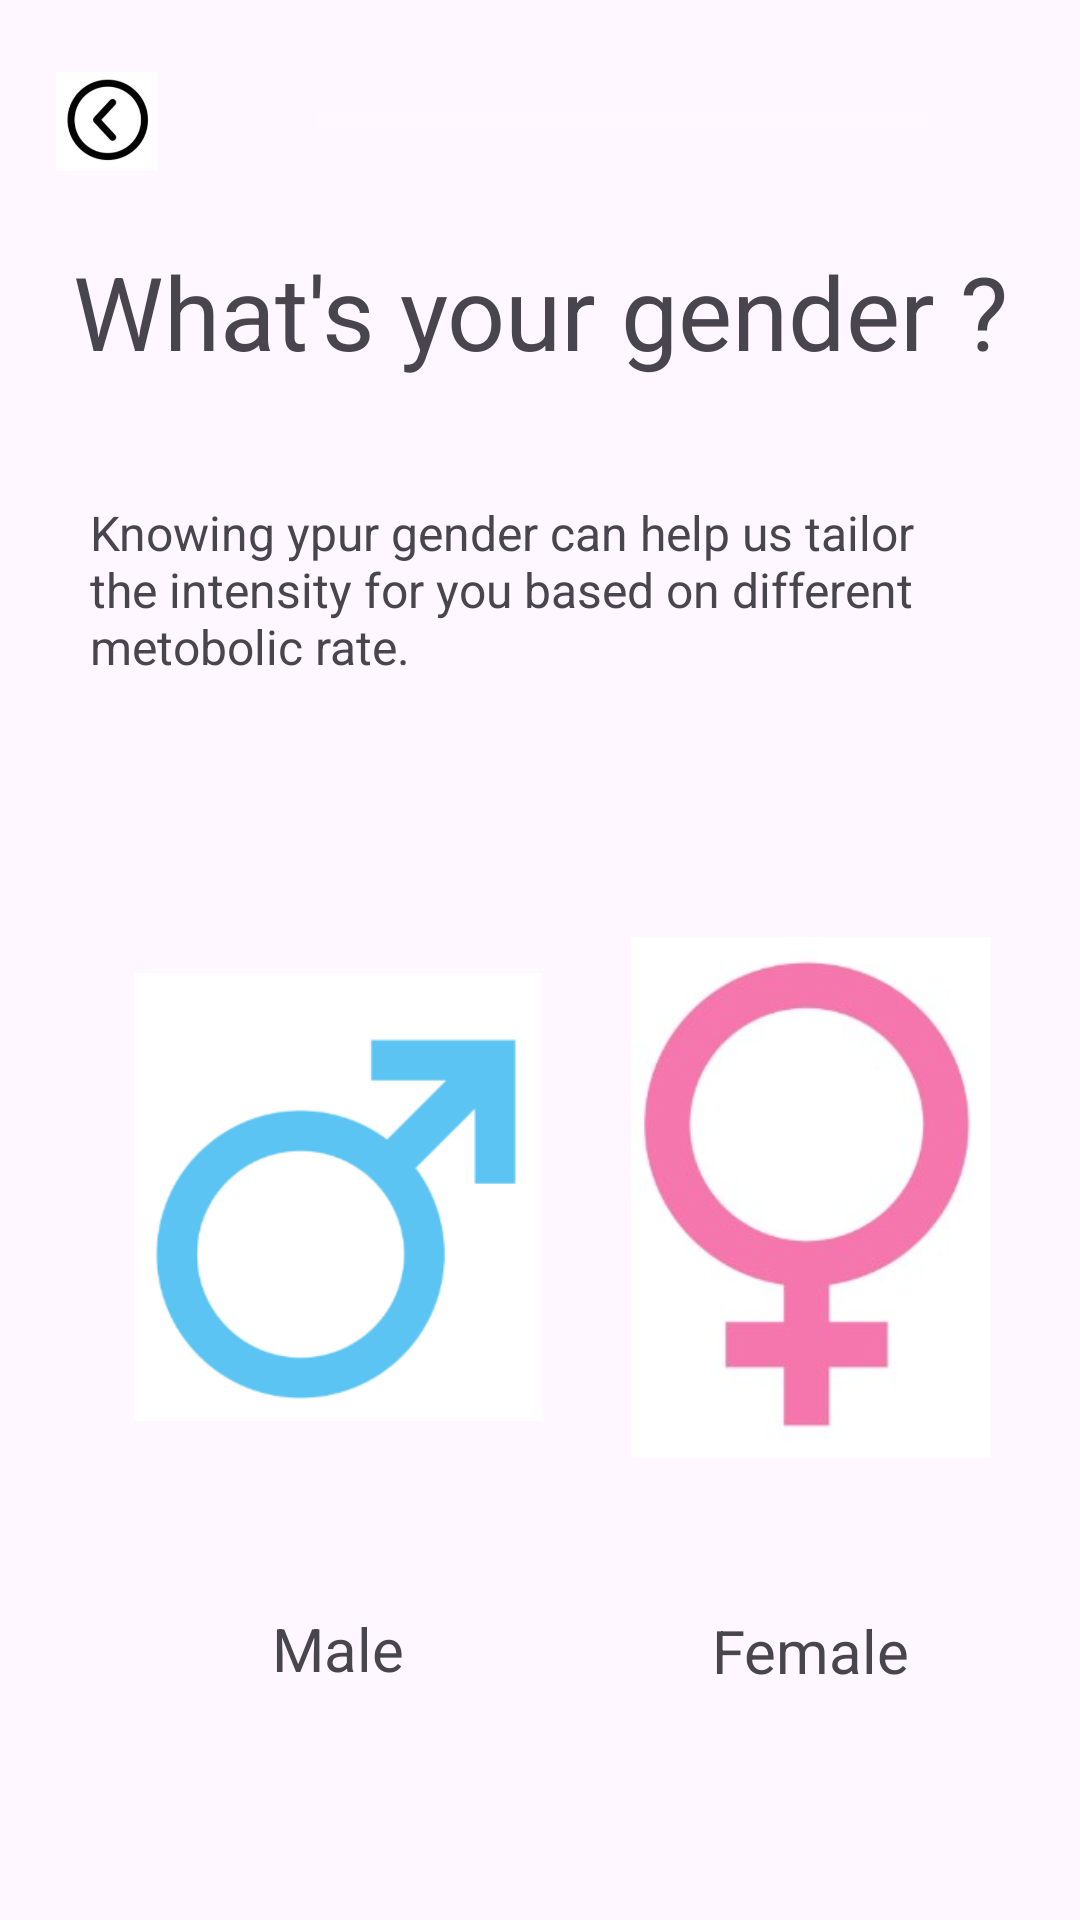

Icons on this 1080px x 1920px Android screen, each with the point to tap as (x=x, y=y):
back: (x=107, y=119)
